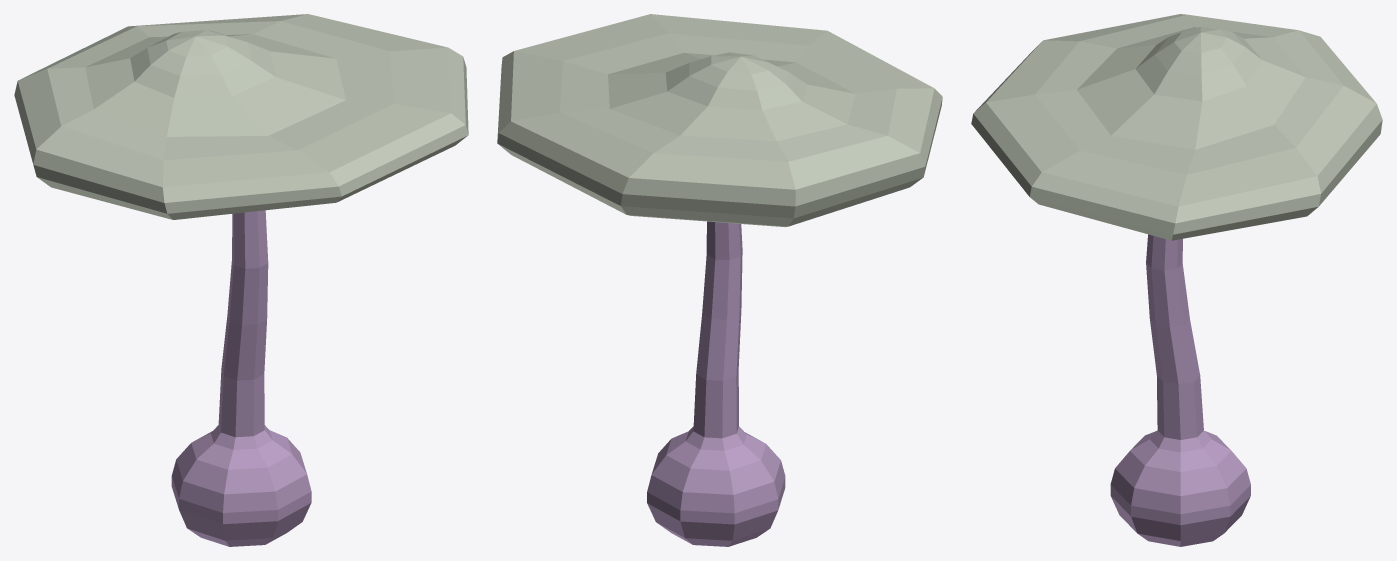
The model's file is Tree_15_Var_03.fbx.
3 renders of one model, left to right at view 1: azimuth 30°, elevation 25°; view 2: azimuth 150°, elevation 25°; view 3: azimuth 270°, elevation 25°, orthographic. The views are drawn at different scales.
Parts seen in each view (by area): view 1: Tree_15_Var_03; view 2: Tree_15_Var_03; view 3: Tree_15_Var_03.
Part boxes in pixels (bbox=[...]): Tree_15_Var_03: bbox=[14, 14, 468, 546]; Tree_15_Var_03: bbox=[497, 14, 942, 546]; Tree_15_Var_03: bbox=[971, 14, 1382, 546].
Size of the model in its own units: 5.28 by 6.89 by 6.2.
